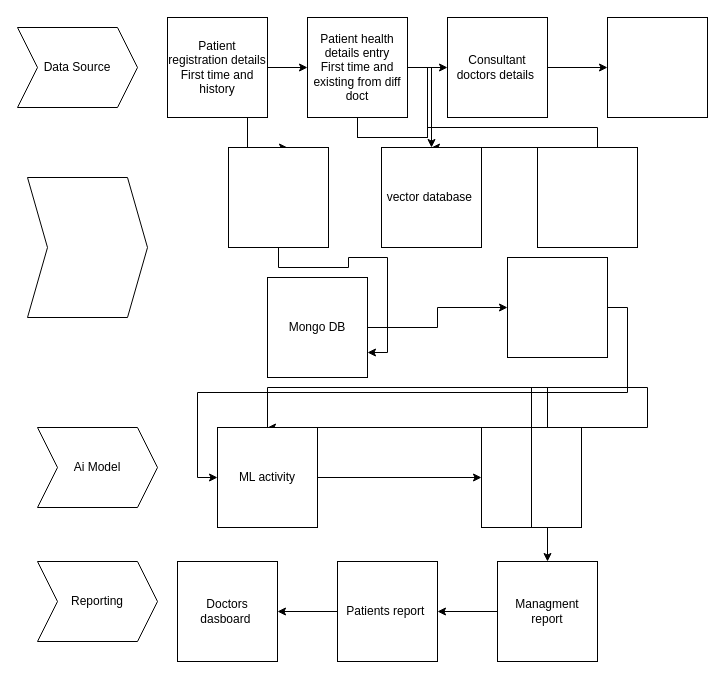
This 725x679 diagram has some shape labels left out. The box of each missing label's shape, as (x1, y1, x2, y2) in pixels:
Ai training: (480, 426, 582, 528)
billing details: (606, 16, 708, 118)
Data storage: (26, 176, 148, 318)
Datalake + Duckdb: (506, 256, 608, 358)
Dataware house: (228, 146, 328, 248)
Patients doc storage: (536, 146, 638, 248)
